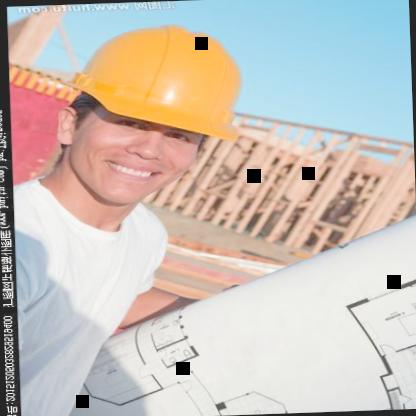helmet: (54, 23, 270, 209)
